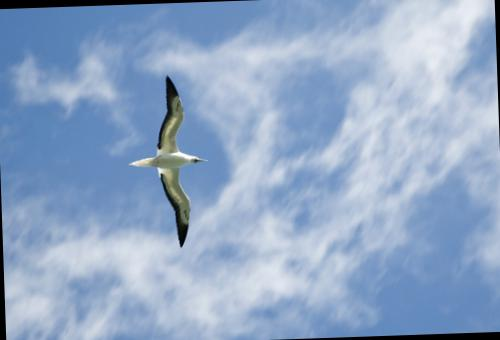bird: (120, 66, 231, 256)
